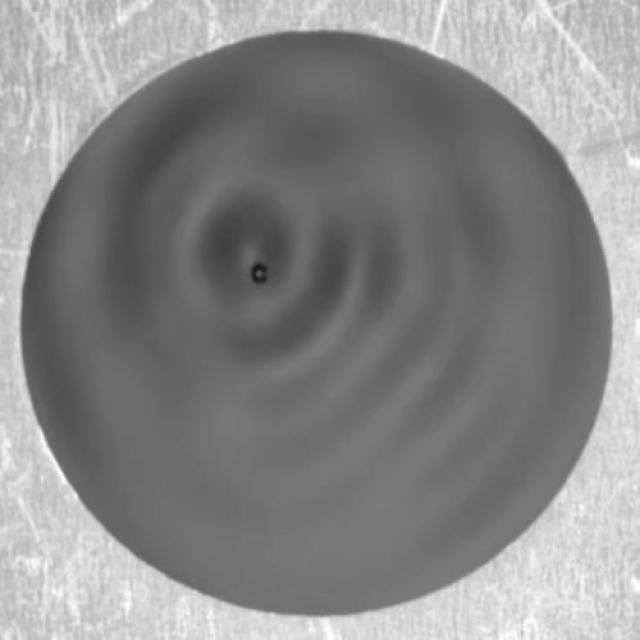droplet: (250, 260, 270, 288)
